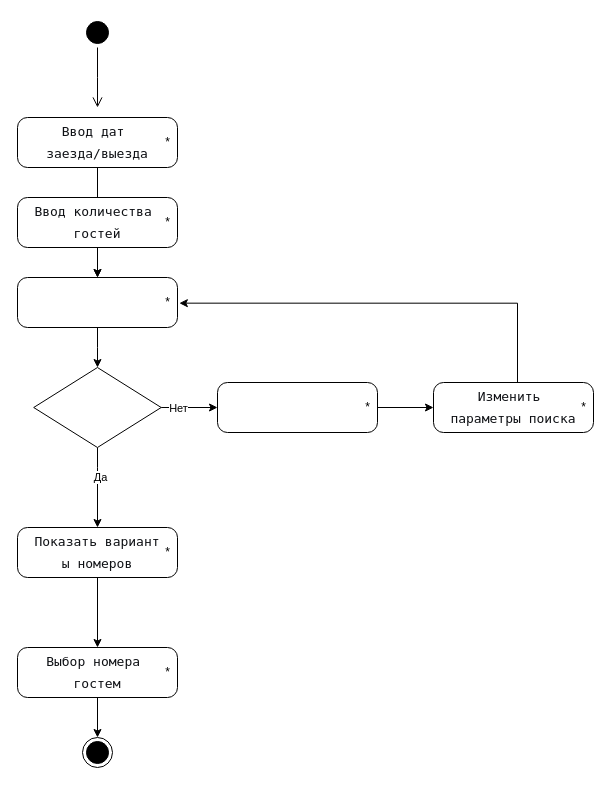
This 611x785 diagram has some shape labels left out. The shapes that lost their labels are listed below. From the top down, each one's box as (x1, y1, x2, y2) in pixels, then its label:
(16, 276, 178, 328): Поиск доступных номеров
(33, 366, 161, 448): Номер найден?
(216, 382, 378, 432): Сообщить об отсутствии
